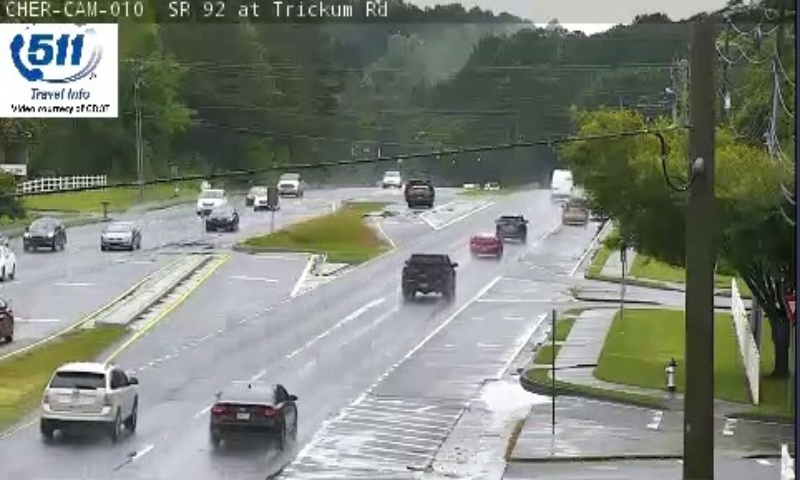car: (39, 362, 137, 427), (210, 382, 298, 440), (401, 253, 457, 296), (469, 232, 501, 258), (496, 216, 526, 240)
